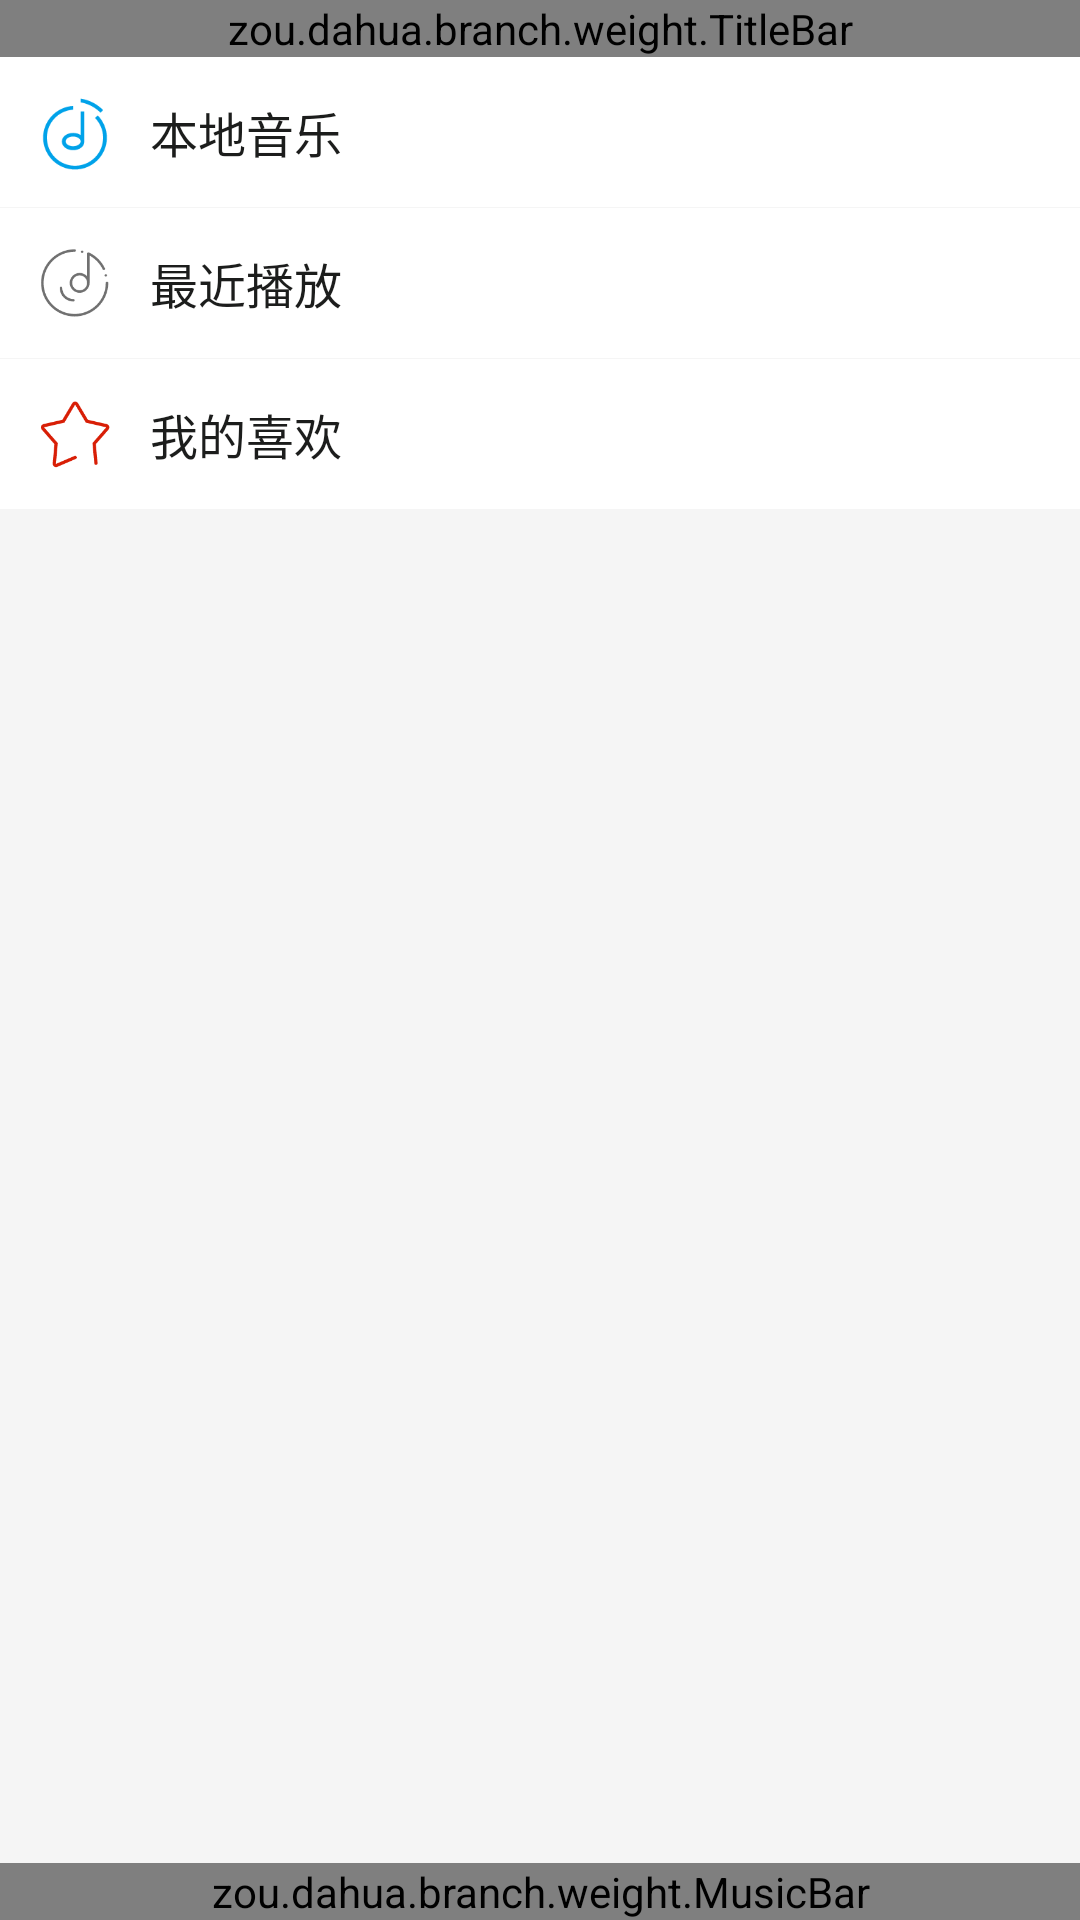

Screen size 1080px×1920px. Icon name, then its center in pixels as (x,y):
history music: (75,283)
local music: (75,134)
love music: (75,434)
